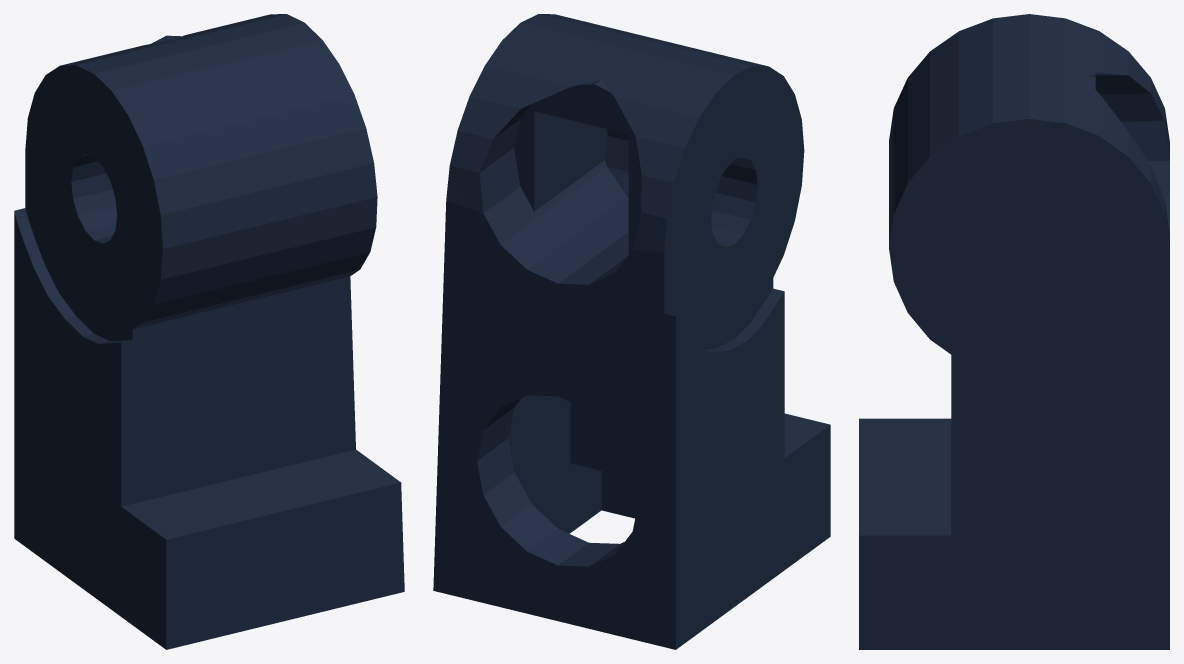
The picture shows the model from 3 angles, left to right: view 1: azimuth 30°, elevation 25°; view 2: azimuth 150°, elevation 25°; view 3: azimuth 270°, elevation 25°; orthographic projection. The views are drawn at different scales.
Parts seen in each view (by area): view 1: Part.1; view 2: Part.1; view 3: Part.1.
Part boxes in pixels (left/top/right/bottom): Part.1: left=14, top=14, right=404, bottom=649; Part.1: left=433, top=14, right=830, bottom=649; Part.1: left=859, top=14, right=1169, bottom=649.
Size of the model in its own units: 7.2 by 14.78 by 7.96.
